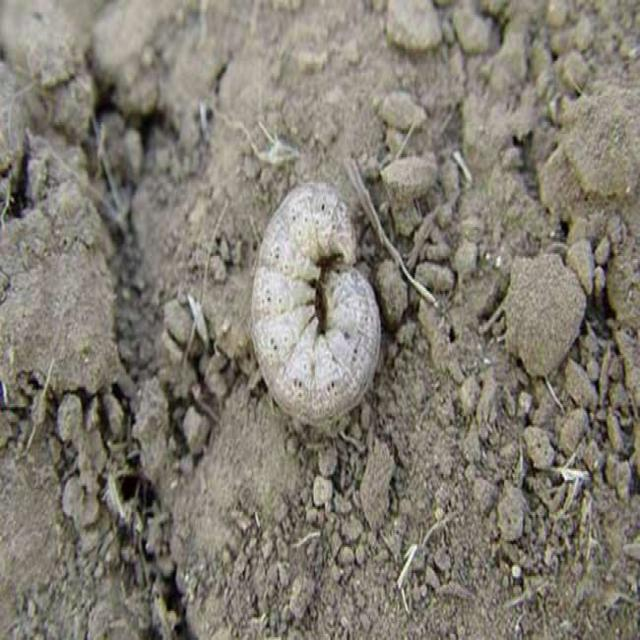black cutworm: (247, 169, 393, 430)
